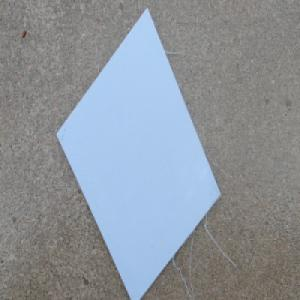PaintChip: (55, 8, 220, 298)
